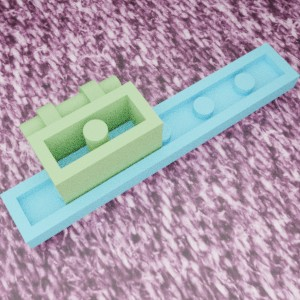lego: (0, 42, 299, 248), (18, 75, 163, 210)
